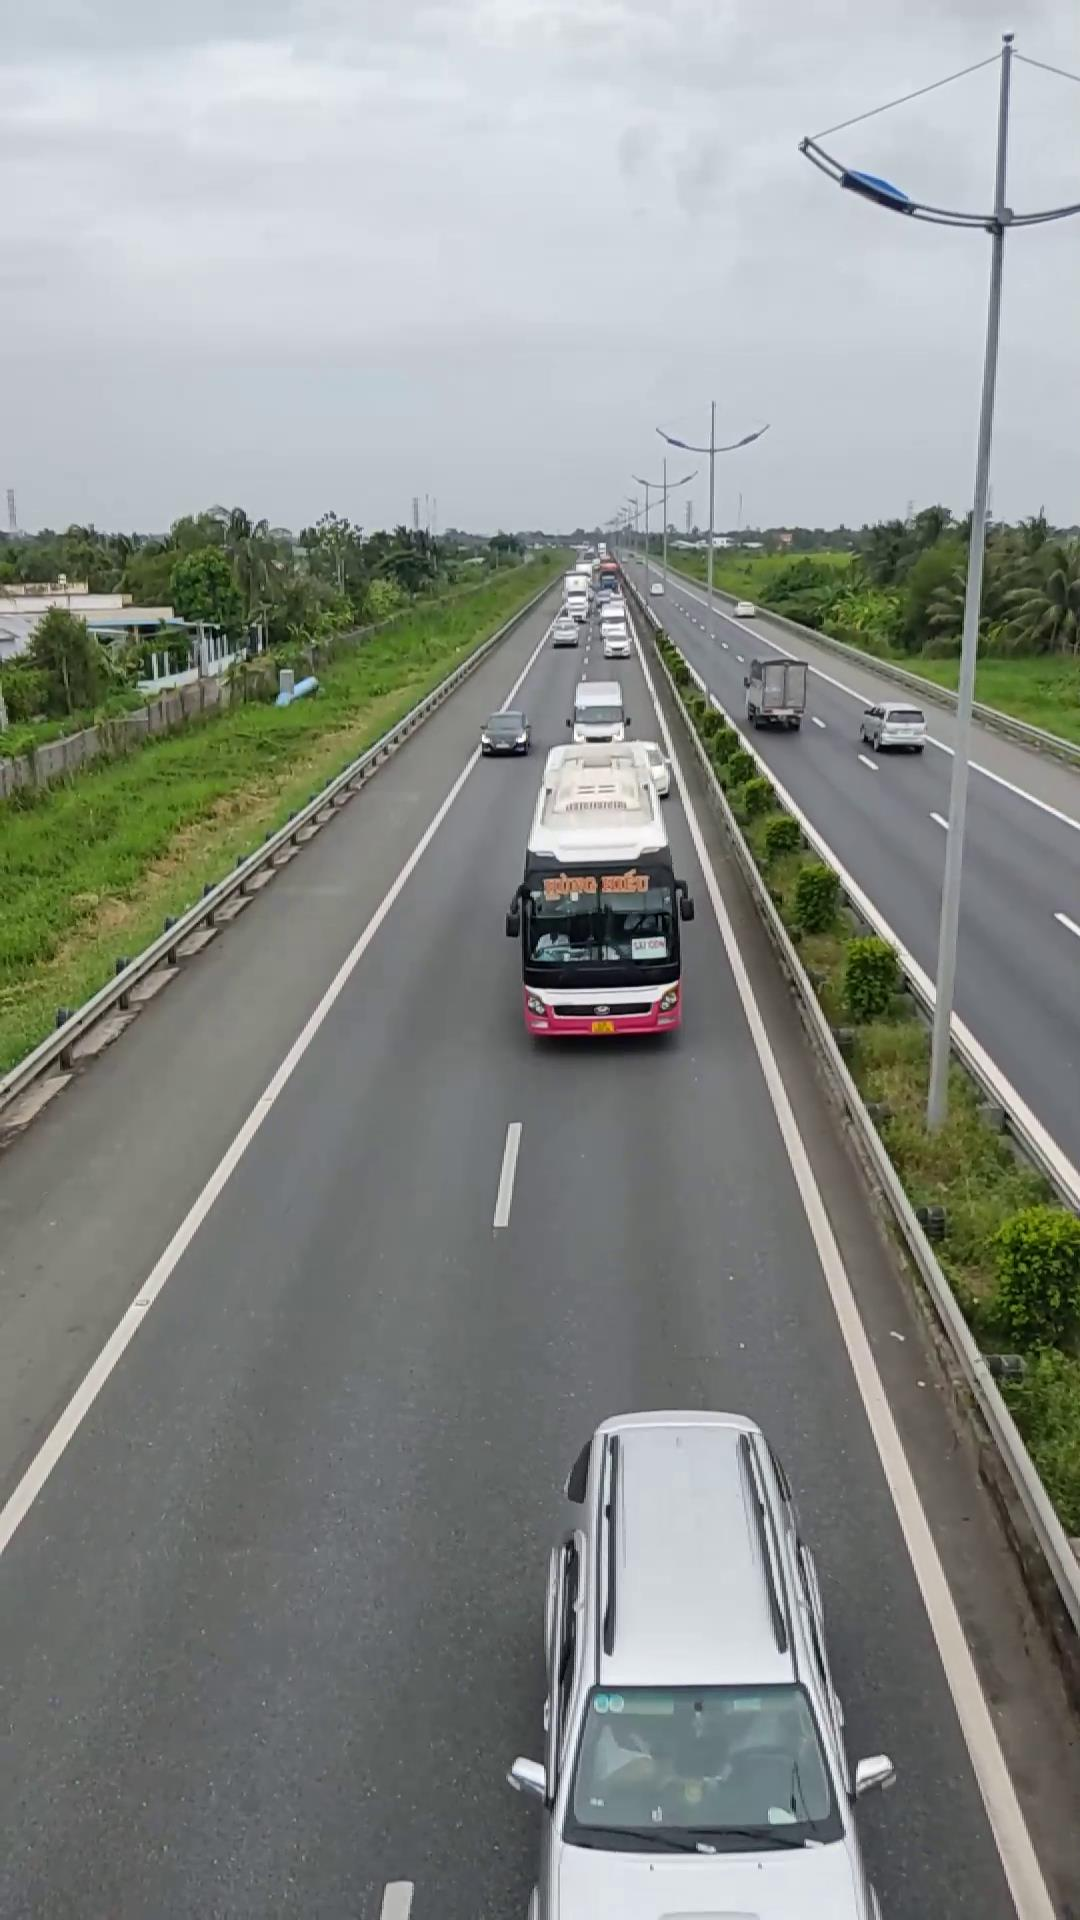bus: (506, 738, 690, 1044)
car: (517, 1400, 887, 1919)
truck: (742, 653, 808, 728)
